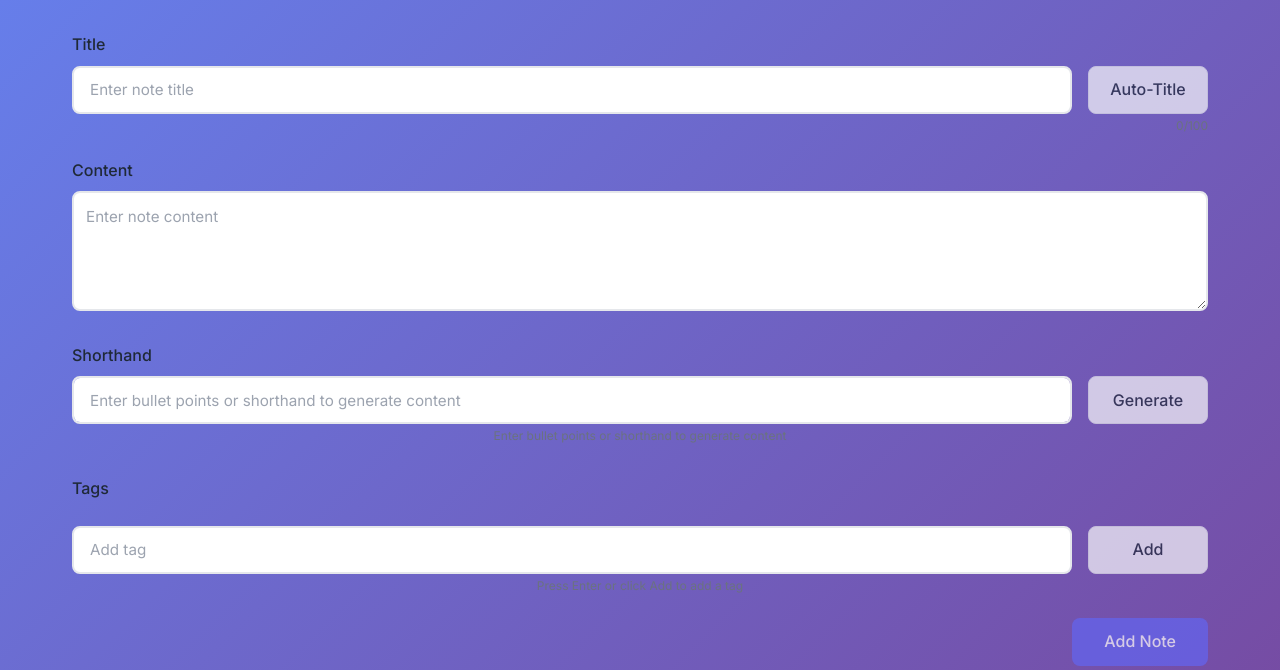
it: NoteForm › adds and removes tags
Type "tag1" into the field with placeholder "Add tag".
click(572, 550); type("tag1")  # box [72,526,1072,574]
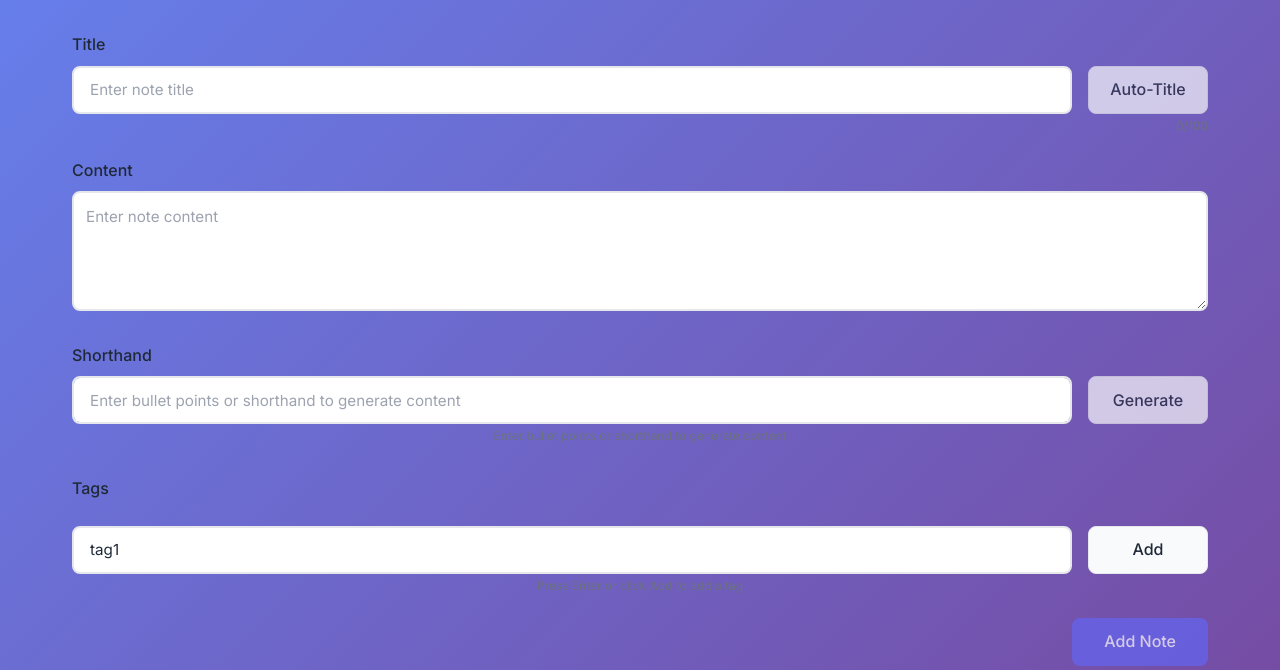
Press Enter in the field with placeholder "Add tag", box [72,526,1072,574]
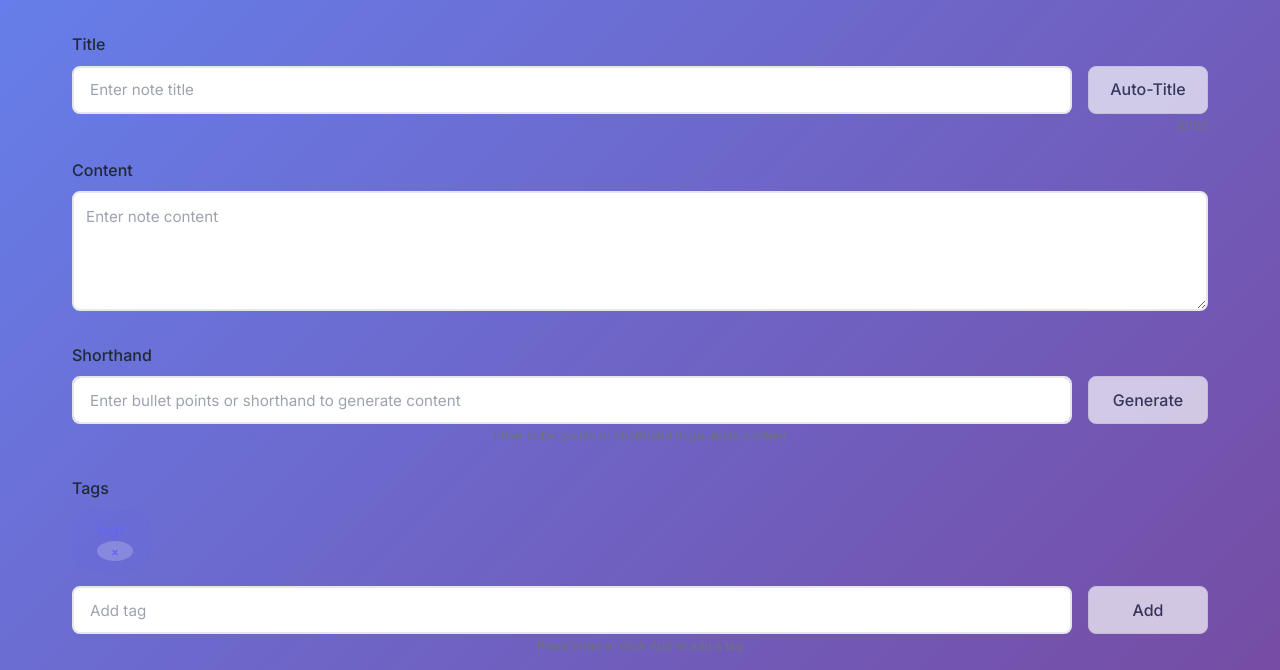
Check: the list item "tag1" is shown, box [97,521,125,538]
Click the button "×".
click(115, 551)  # box [97,541,133,561]
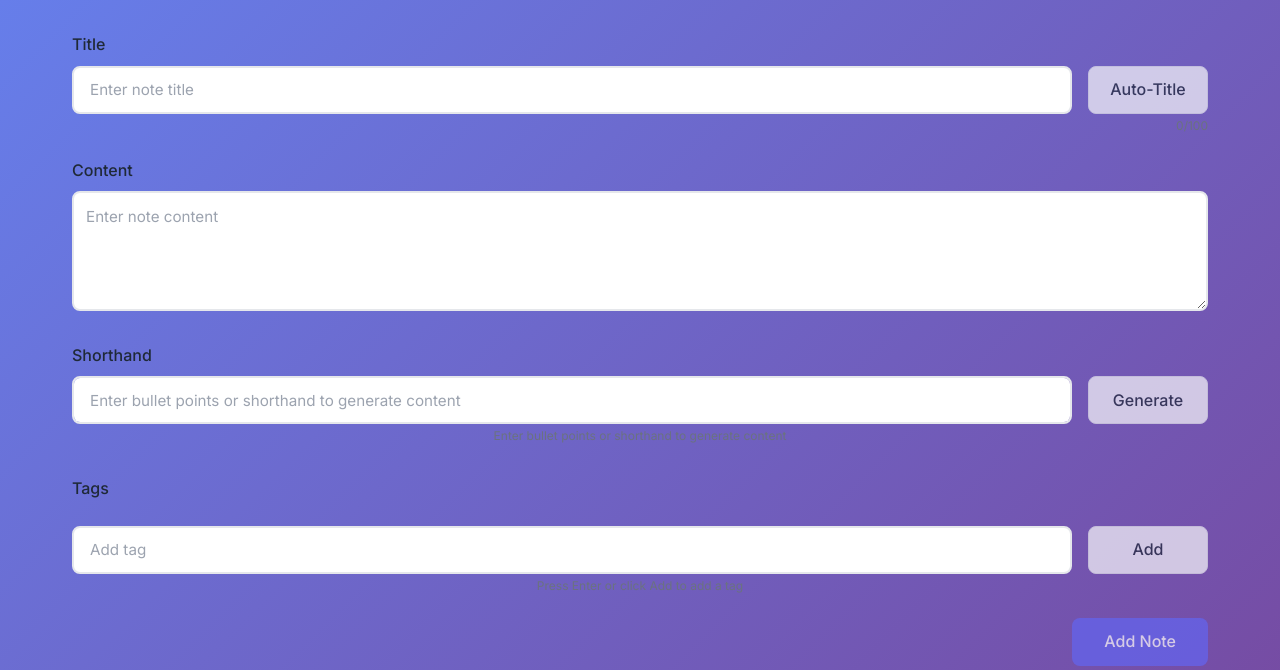
Check: the list item "tag1" is gone
